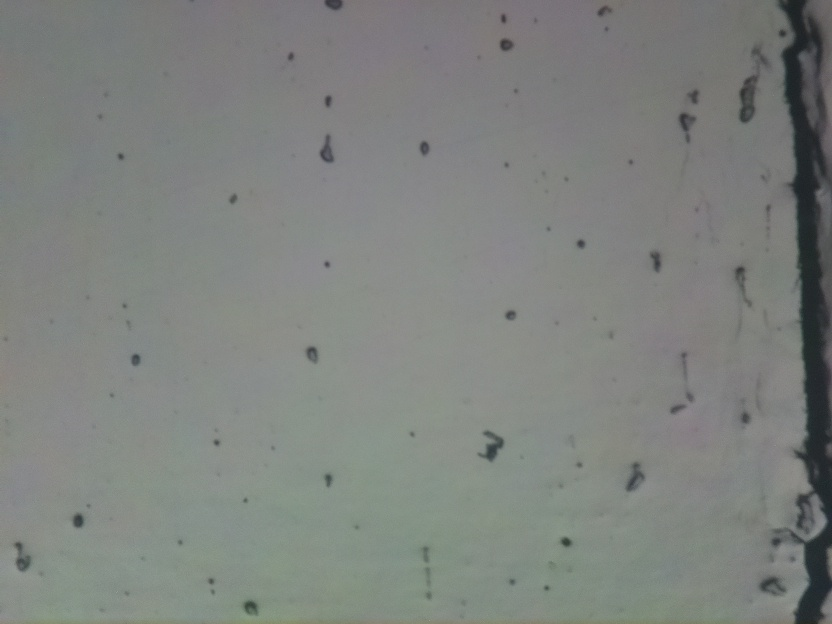crack: (780, 0, 832, 622)
